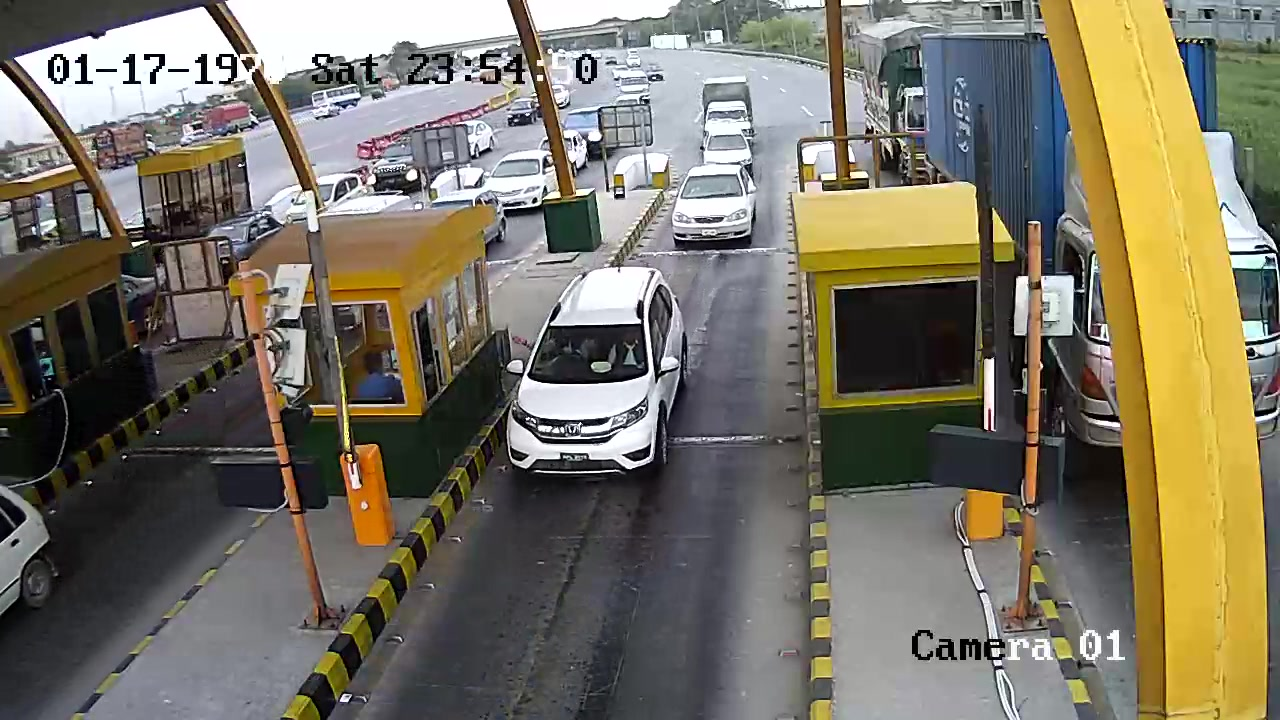F1: (499, 267, 692, 493)
